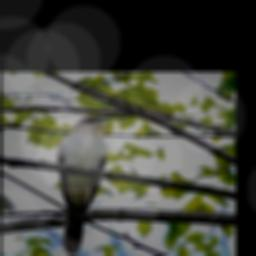Cuckoo: (59, 114, 116, 255)
